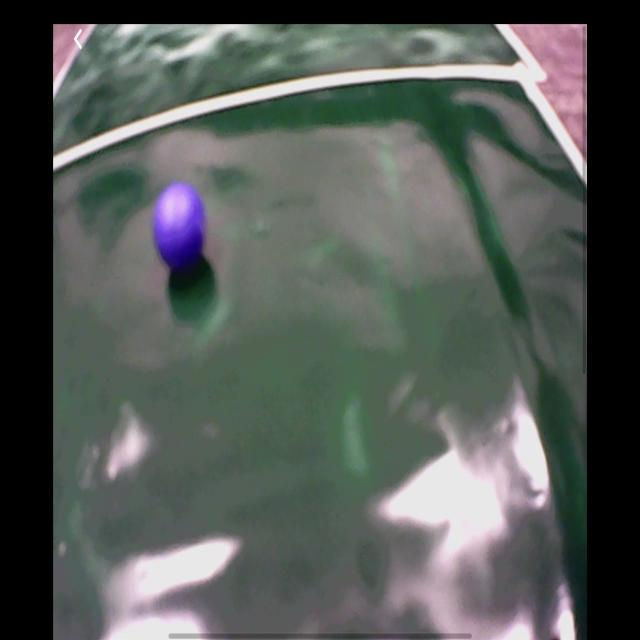ball: (155, 182, 207, 271)
